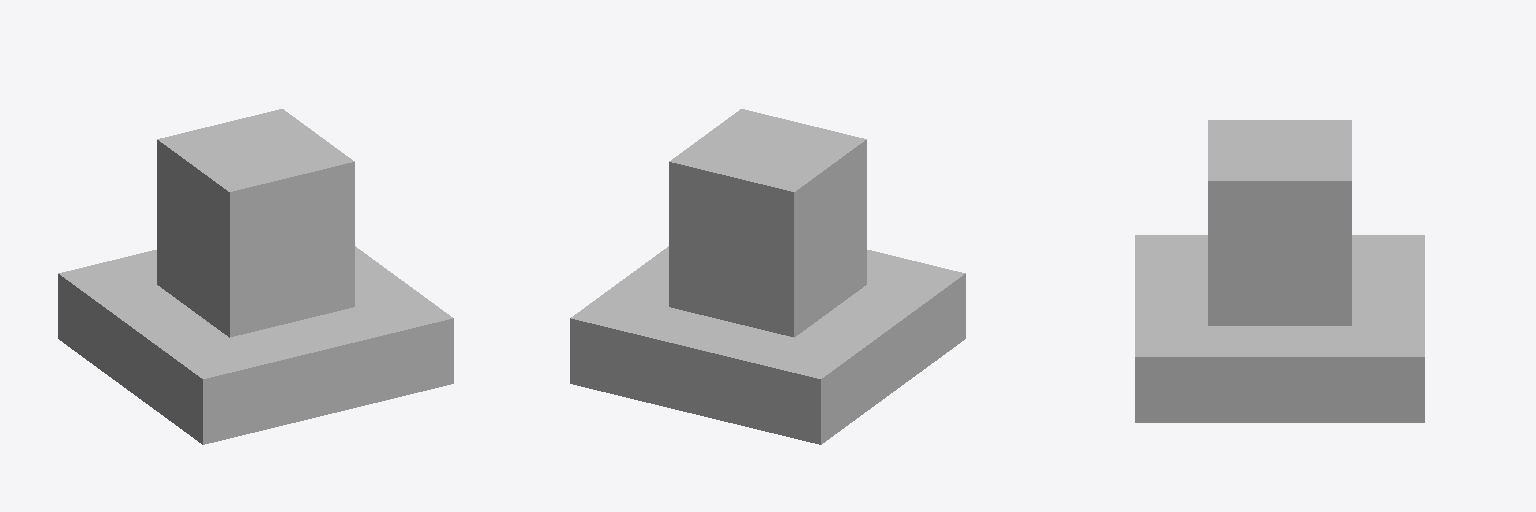
File: column_seat.obj
3 renders of one model, left to right at view 1: azimuth 30°, elevation 25°; view 2: azimuth 150°, elevation 25°; view 3: azimuth 270°, elevation 25°, orthographic.
Visible parts, largest first — view 1: columnseat; view 2: columnseat; view 3: columnseat.
Boxes of the visible parts, x1=… form: columnseat: x1=58, y1=109, x2=453, y2=444; columnseat: x1=570, y1=109, x2=965, y2=444; columnseat: x1=1135, y1=120, x2=1424, y2=422.
Bounding box in the file's own units: 4 × 3.22 × 4.